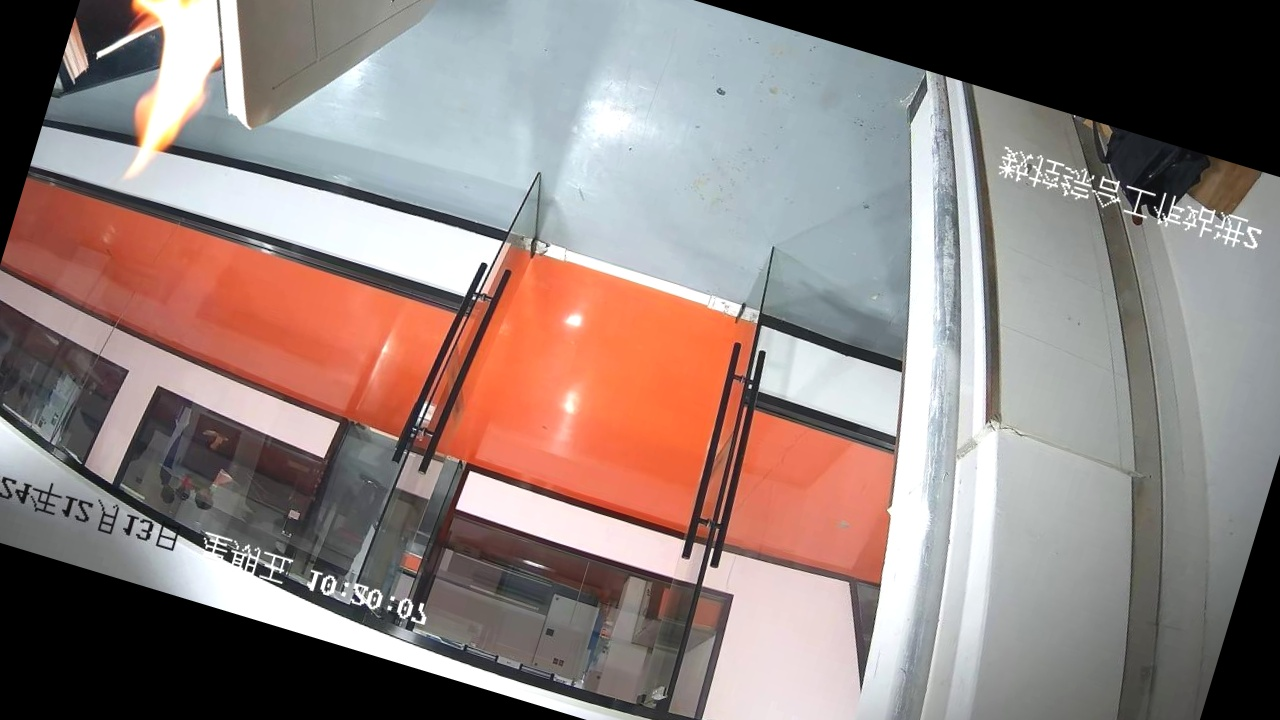fire: (47, 0, 288, 225)
